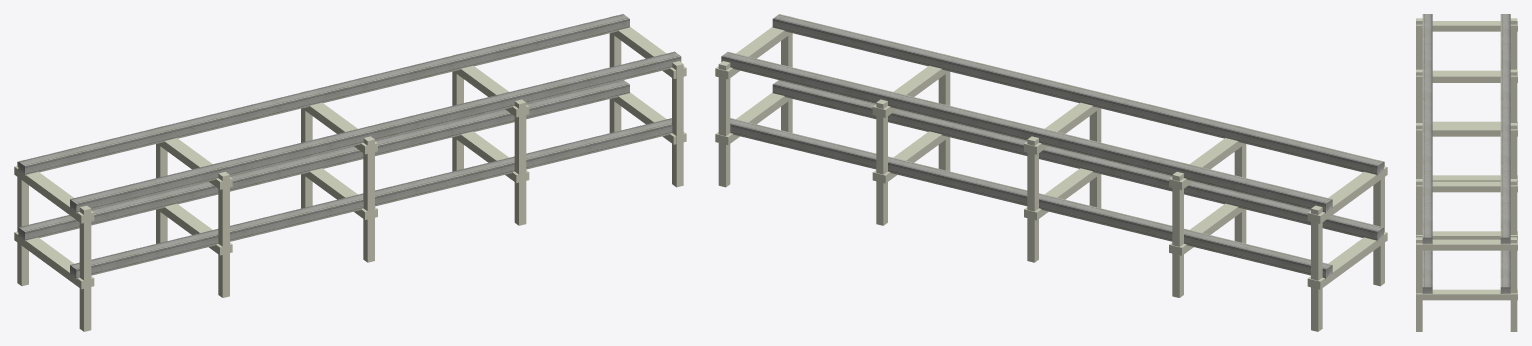
The model's file is 组装线_B1_线头设备2 1.fbx.
The picture shows the model from 3 angles, left to right: view 1: azimuth 30°, elevation 25°; view 2: azimuth 150°, elevation 25°; view 3: azimuth 270°, elevation 25°; orthographic projection. The views are drawn at different scales.
Visible parts, largest first — view 1: Line003; view 2: Line003; view 3: Line003.
Part boxes in pixels (x1=…): Line003: x1=14, y1=14, x2=686, y2=331; Line003: x1=715, y1=14, x2=1387, y2=331; Line003: x1=1416, y1=14, x2=1517, y2=331.
Size of the model in its own units: 102 by 20.27 by 19.64.
Materials: 2 (2 with a texture image).
